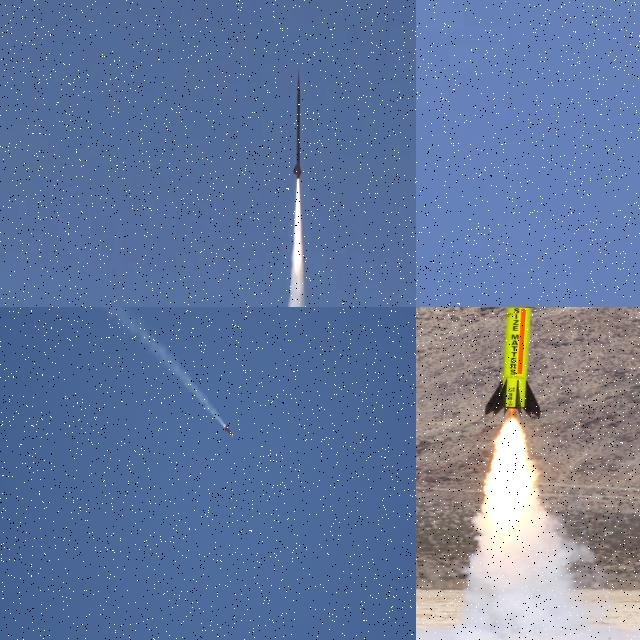Rocket: (483, 307, 543, 419), (293, 68, 302, 178), (225, 424, 234, 438)
